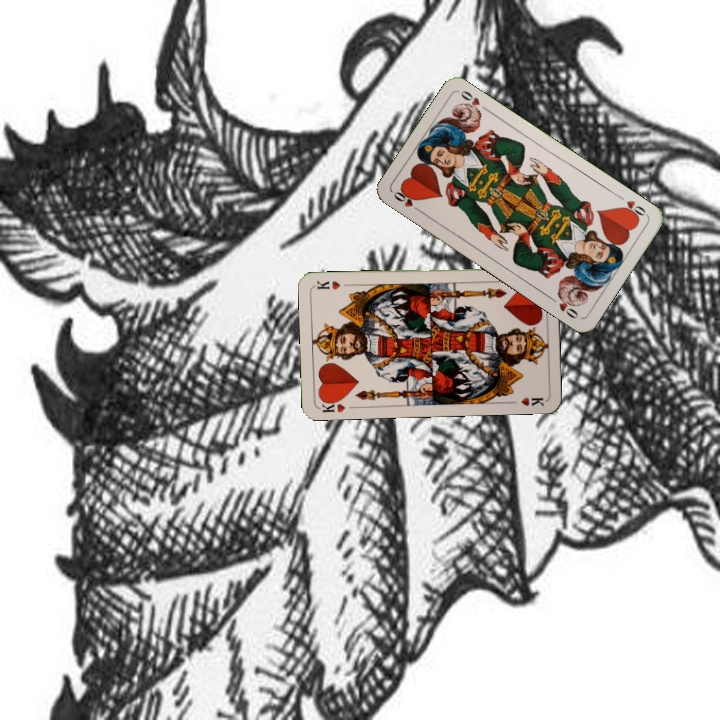HK: (316, 395, 348, 415)
HO: (614, 191, 650, 222), (389, 186, 425, 216)
